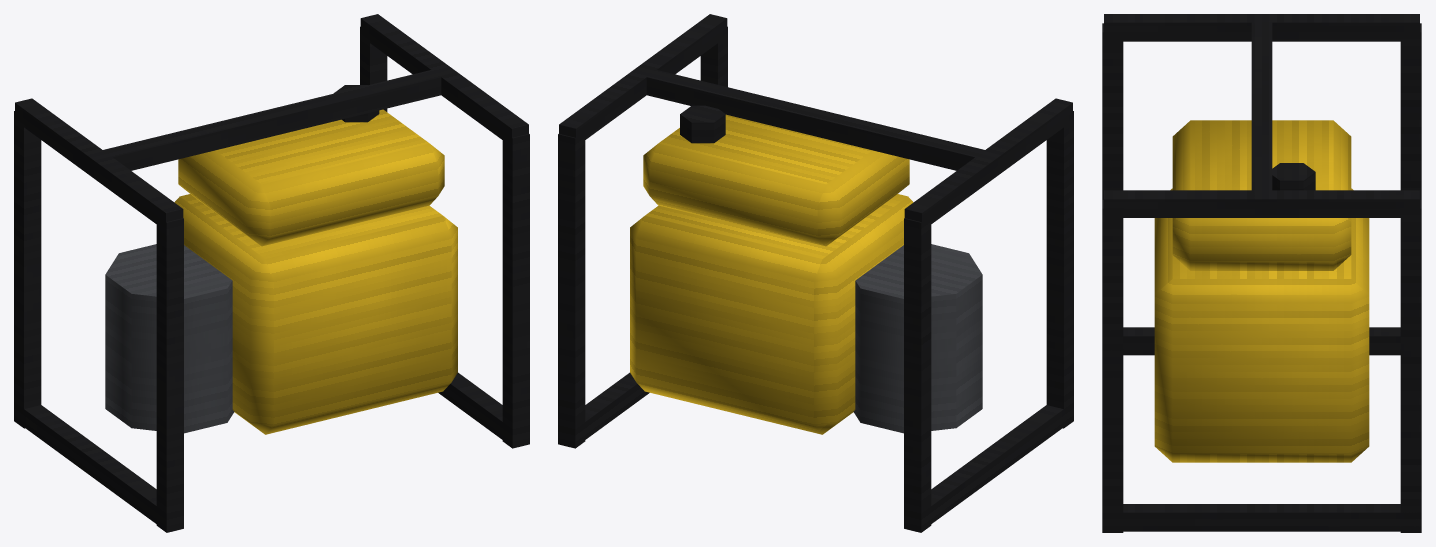
Rendered from gerador.glb.
3 renders of one model, left to right at view 1: azimuth 30°, elevation 25°; view 2: azimuth 150°, elevation 25°; view 3: azimuth 270°, elevation 25°, orthographic. The views are drawn at different scales.
Visible parts, largest first — view 1: Inteiro; view 2: Inteiro; view 3: Inteiro.
Part boxes in pixels (x1,y1,x2,y2): Inteiro: (14, 14, 529, 532); Inteiro: (558, 14, 1073, 532); Inteiro: (1102, 14, 1421, 532).
Size of the model in its own units: 0.735 by 0.6175 by 0.535.
1 material, 1 textured.
